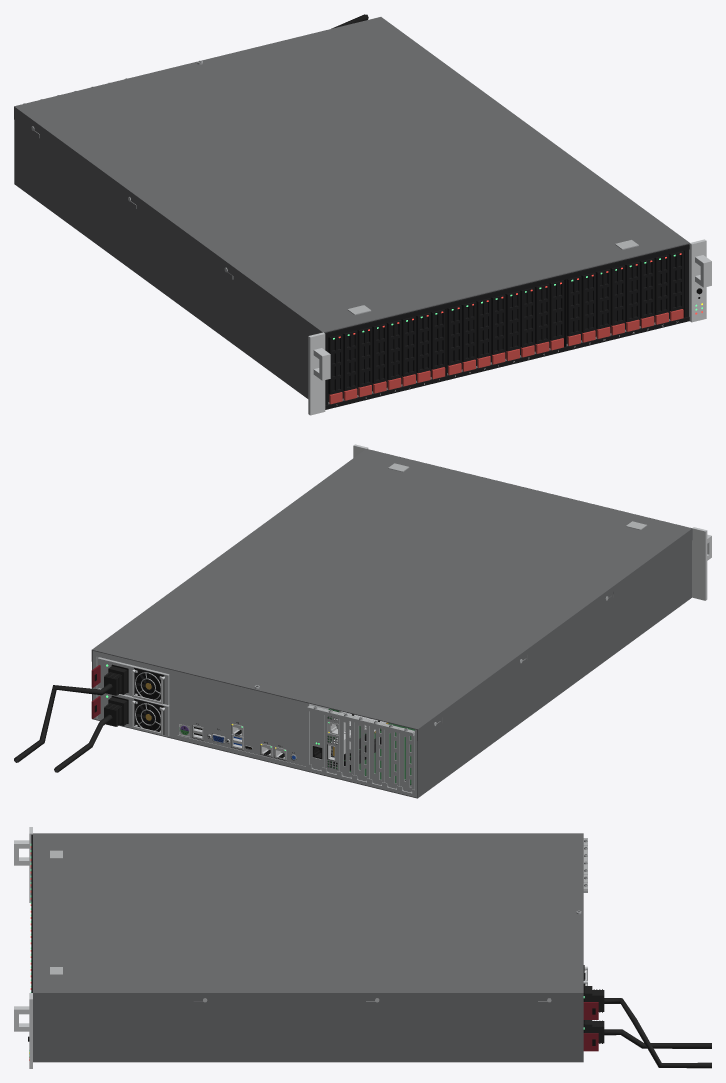
Rendered from server.glb.
3 views of the same model, one above another, from view 1: azimuth 30°, elevation 25°; view 2: azimuth 150°, elevation 25°; view 3: azimuth 270°, elevation 25° (orthographic). The views are drawn at different scales.
Parts seen in each view (by area): view 1: lid_panel, tray_side_L, cage, lid_lip_L, ear_L, ear_R, caddy_03_handle, caddy_06_handle, caddy_11_handle, caddy_20_handle, caddy_17_handle, caddy_23_handle (+18 smaller); view 2: lid_panel, tray_side_L, rear_wall, io_shield, lid_lip_L, ear_L, blank_4_plate, tray_bottom, cord_2_cable, blank_3_plate, blank_5_plate, blank_6_plate (+10 smaller); view 3: lid_panel, tray_side_R, lid_lip_R, tray_bottom, cord_2_cable, cord_1_cable, ear_R, ear_L.
Part boxes in pixels (bbox=[...]): lid_panel: bbox=[14, 17, 689, 332]; tray_side_L: bbox=[14, 120, 308, 397]; cage: bbox=[324, 244, 689, 409]; lid_lip_L: bbox=[14, 107, 321, 335]; ear_L: bbox=[308, 332, 330, 415]; ear_R: bbox=[689, 239, 711, 322]; caddy_03_handle: bbox=[357, 327, 372, 387]; caddy_06_handle: bbox=[401, 316, 416, 376]; caddy_11_handle: bbox=[476, 298, 491, 358]; caddy_20_handle: bbox=[610, 265, 625, 325]; caddy_17_handle: bbox=[566, 276, 581, 336]; caddy_23_handle: bbox=[654, 254, 669, 315]; lid_panel: bbox=[91, 449, 692, 729]; tray_side_L: bbox=[417, 541, 691, 797]; rear_wall: bbox=[93, 651, 416, 797]; io_shield: bbox=[177, 698, 305, 766]; lid_lip_L: bbox=[417, 529, 692, 740]; ear_L: bbox=[692, 527, 711, 600]; blank_4_plate: bbox=[352, 716, 369, 781]; tray_bottom: bbox=[92, 597, 691, 798]; cord_2_cable: bbox=[14, 683, 112, 762]; blank_3_plate: bbox=[337, 712, 354, 777]; blank_5_plate: bbox=[367, 720, 384, 784]; blank_6_plate: bbox=[383, 723, 399, 788]; lid_panel: bbox=[33, 833, 583, 993]; tray_side_R: bbox=[33, 998, 583, 1061]; lid_lip_R: bbox=[33, 993, 583, 1004]; tray_bottom: bbox=[33, 1061, 583, 1062]; cord_2_cable: bbox=[604, 998, 711, 1068]; cord_1_cable: bbox=[604, 1029, 711, 1048]; ear_R: bbox=[14, 993, 32, 1068]; ear_L: bbox=[14, 827, 32, 902].
Bounding box in the file's own units: 0.4752 × 0.091 × 0.811.
